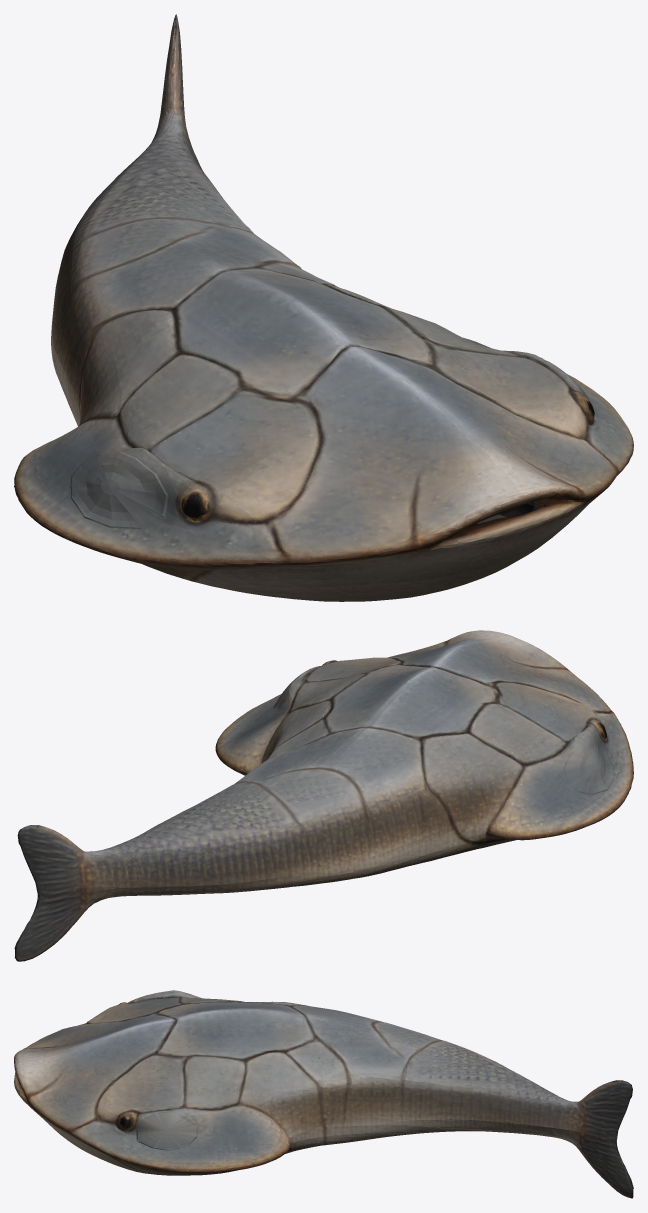
3 views of the same model, one above another, from view 1: azimuth 30°, elevation 25°; view 2: azimuth 150°, elevation 25°; view 3: azimuth 270°, elevation 25° (orthographic). The views are drawn at different scales.
Visible parts, largest first — view 1: world, DREP_ARMOR_SIDE_0; view 2: world, DREP_ARMOR_SIDE_0; view 3: world, DREP_ARMOR_SIDE_1.
Boxes of the visible parts, x1,y1,x2,y2 form: world: (14, 14, 633, 601); DREP_ARMOR_SIDE_0: (70, 451, 168, 529); world: (14, 630, 633, 961); DREP_ARMOR_SIDE_0: (562, 736, 614, 794); world: (14, 990, 633, 1198); DREP_ARMOR_SIDE_1: (136, 1111, 197, 1150).
Size of the model in its own units: 0.6041 by 0.2318 by 1.
Materials: 3 (1 with a texture image).
